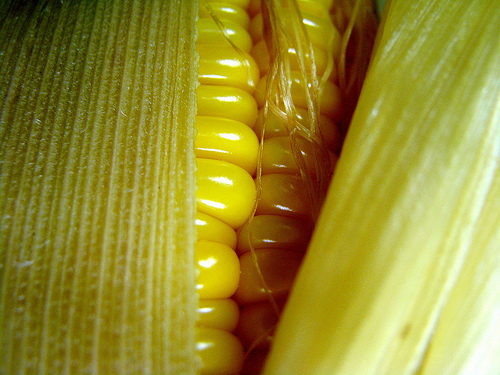corn: (0, 0, 361, 373), (186, 0, 381, 374)
